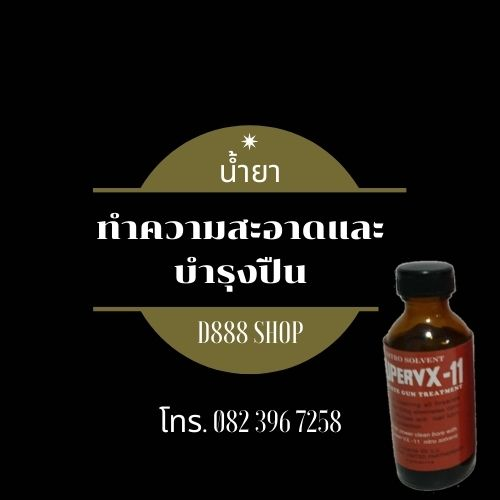Cleaning_solution: (379, 258, 481, 494)
